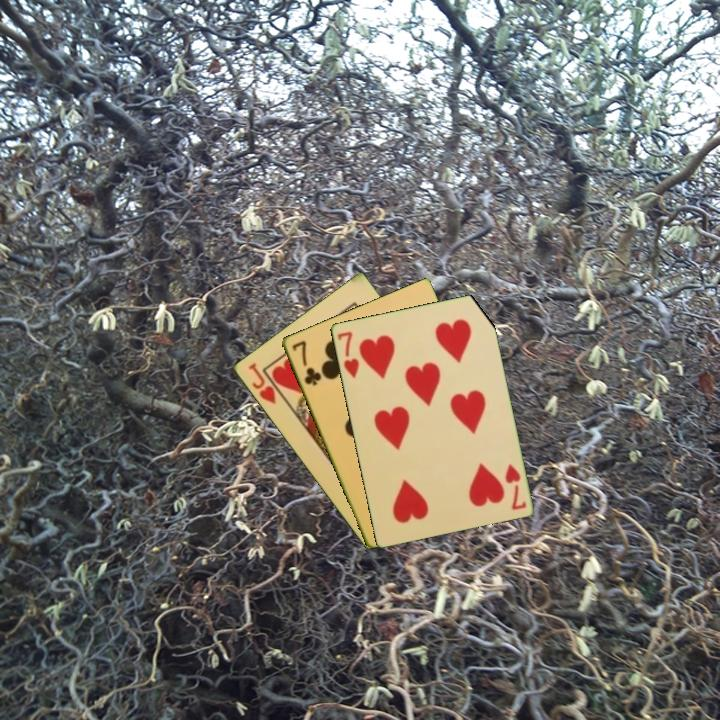7c: (288, 337, 324, 388)
7h: (334, 328, 362, 381), (501, 460, 529, 513)
Jh: (244, 359, 278, 407)
